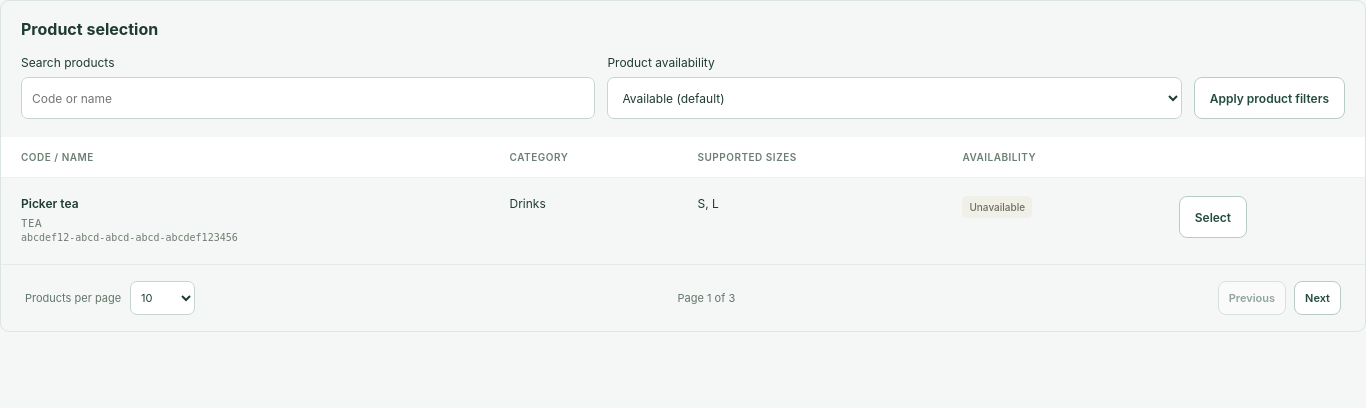
Catalog reference selection › serializes an explicit unavailable Product filter, trimmed search, and a reset page
This screenshot has width=1366, height=408.
Expected: the text "Page 1 of 3" is shown, [678, 291, 735, 305]
Click the button with aria-label "Next products page".
click(1318, 298)  # box [1294, 281, 1341, 315]
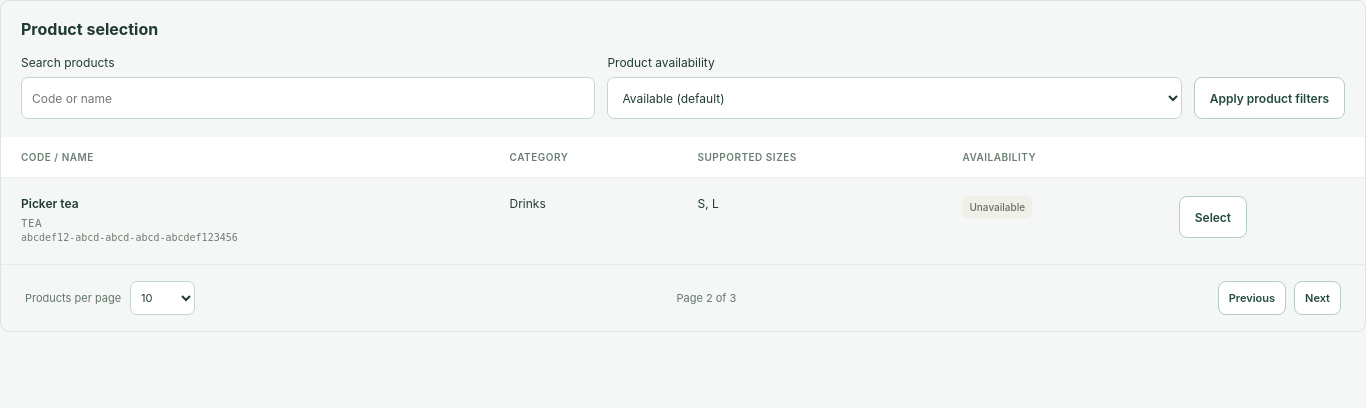
Result: the text "Page 2 of 3" is shown at [676, 291, 736, 305]
Type " tea & milk " into the search field labelled "Search products".
click(308, 98); type(" tea & milk ")  # box [21, 77, 595, 119]
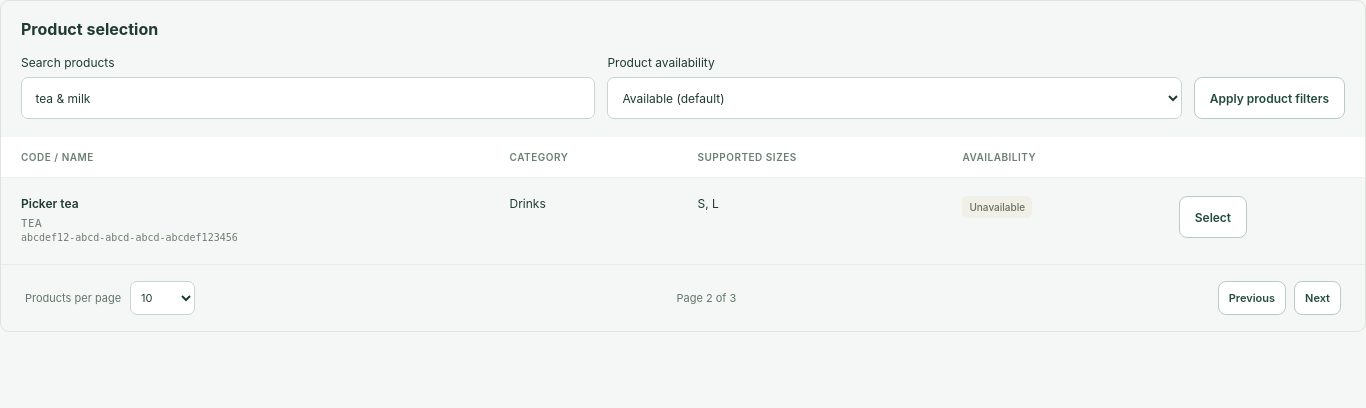
Select "Unavailable" in the dropdown labelled "Product availability" at (895, 98), box [607, 77, 1182, 119]
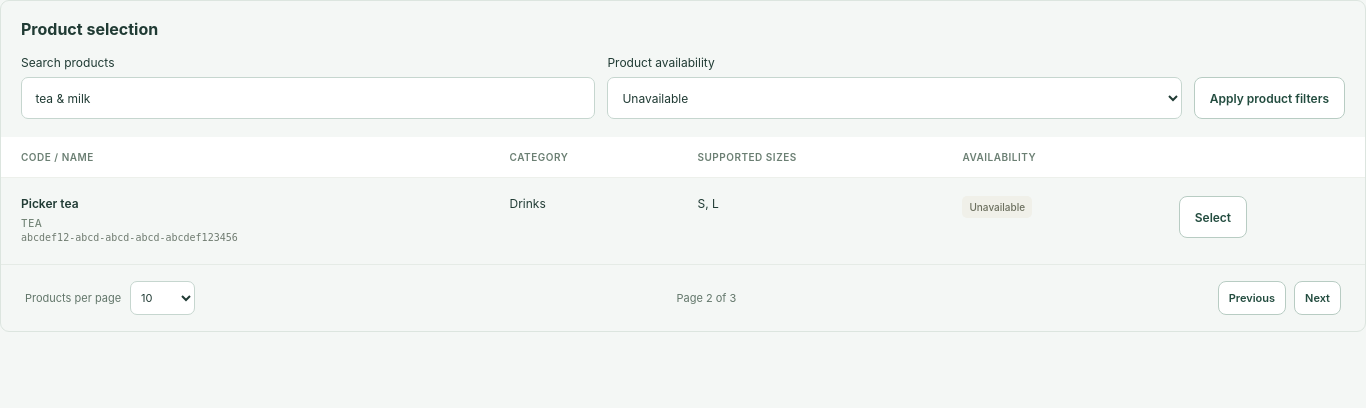
Click the button "Apply product filters".
click(1269, 98)  # box [1194, 77, 1345, 119]
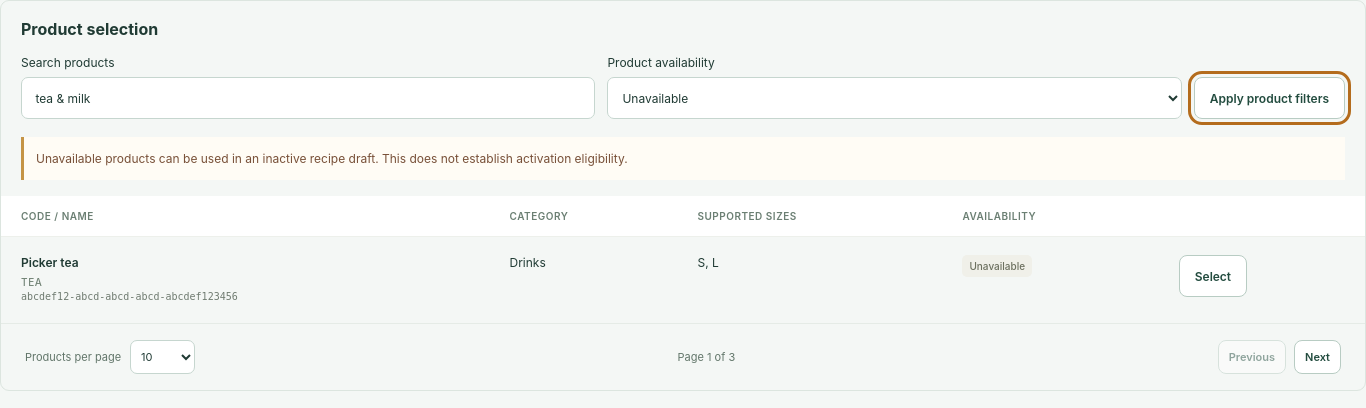
Result: the text "Unavailable products can be used in an inactive recipe draft" shows "does not establish activation eligibility" at [36, 151, 628, 166]
